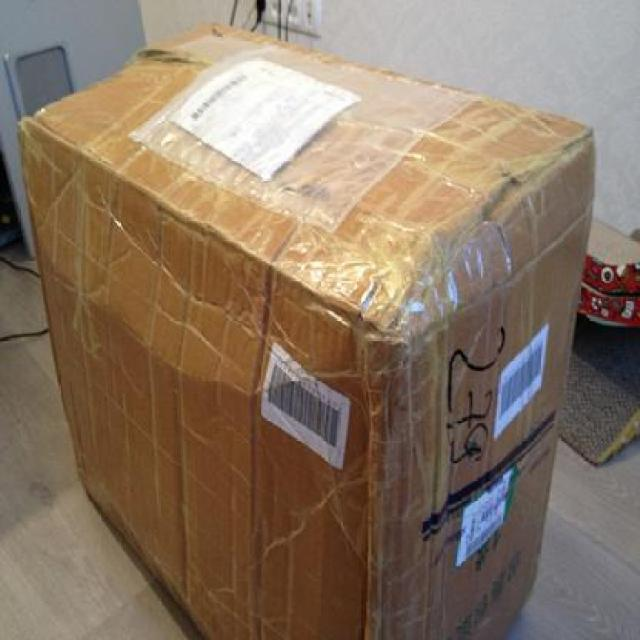box: (22, 22, 600, 640)
